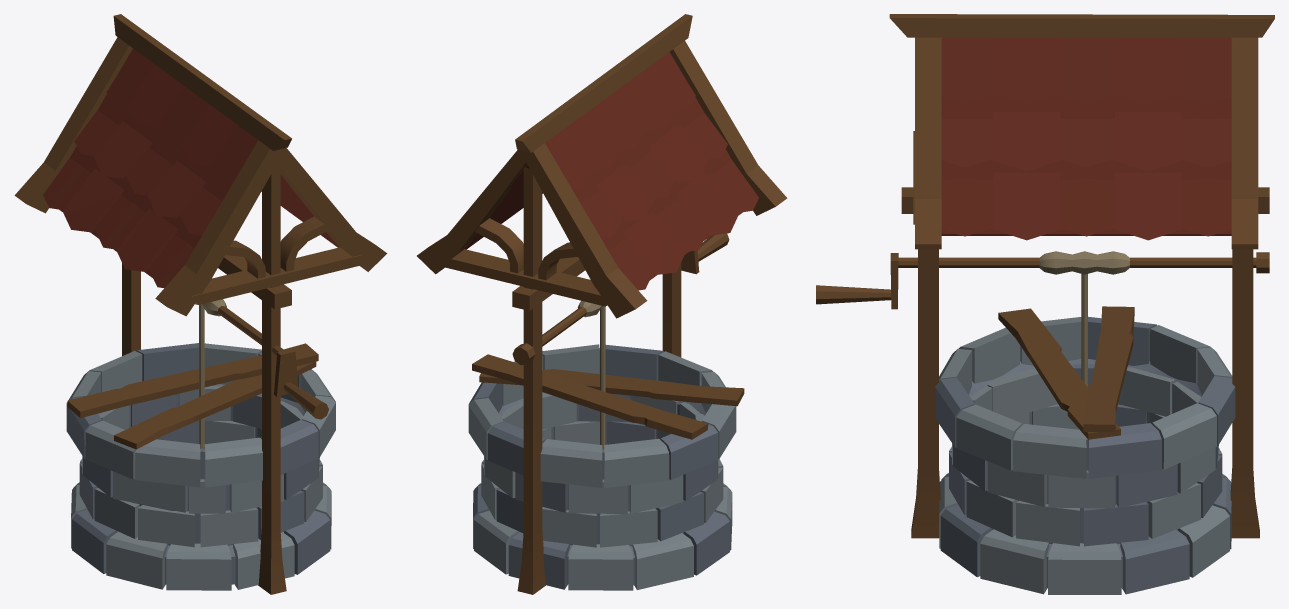
The model's file is well.glb.
3 renders of one model, left to right at view 1: azimuth 30°, elevation 25°; view 2: azimuth 150°, elevation 25°; view 3: azimuth 270°, elevation 25°, orthographic. The views are drawn at different scales.
Parts seen in each view (by area): view 1: Well; view 2: Well; view 3: Well.
Boxes of the visible parts, x1=… form: Well: x1=14, y1=14, x2=387, y2=594; Well: x1=417, y1=14, x2=787, y2=594; Well: x1=816, y1=14, x2=1274, y2=594.
Size of the model in its own units: 0.6664 by 1.25 by 1.
Materials: 1 (1 with a texture image).
